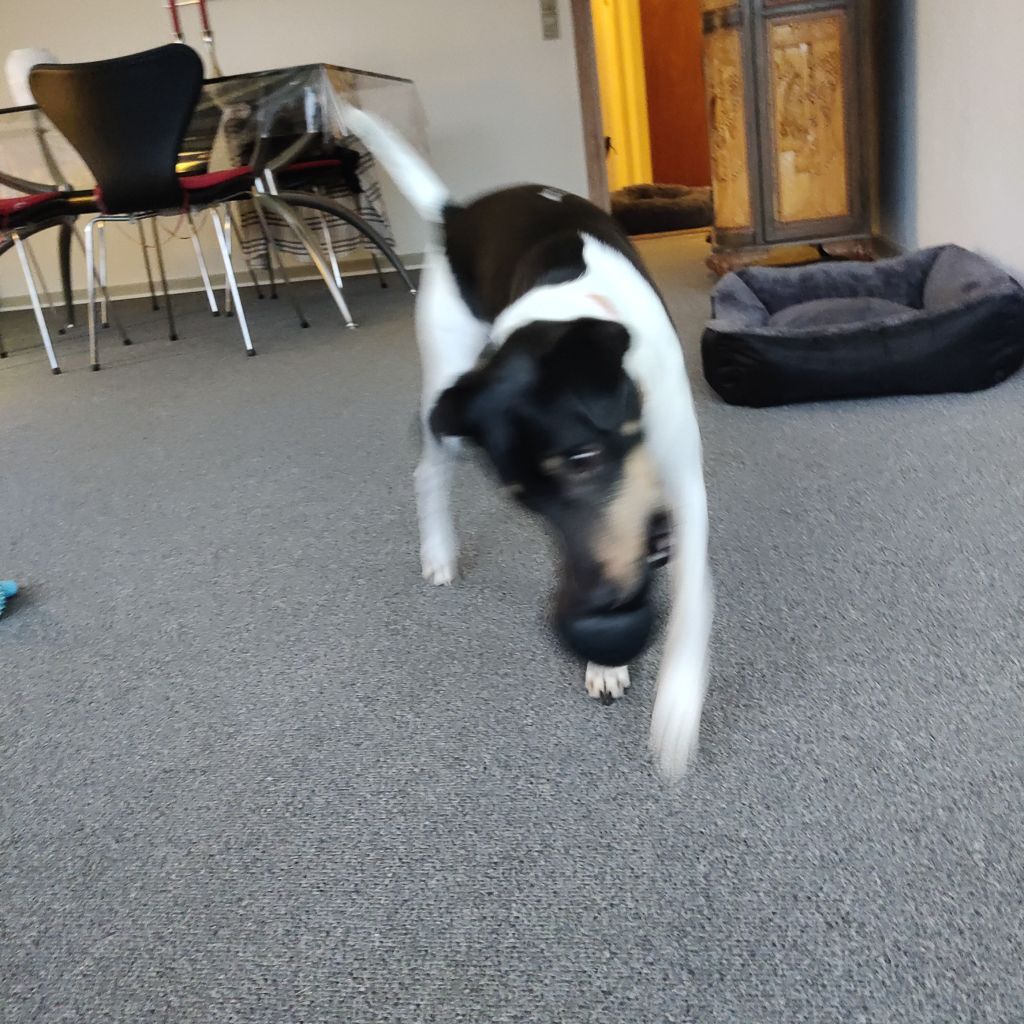Dog: (273, 63, 777, 809)
